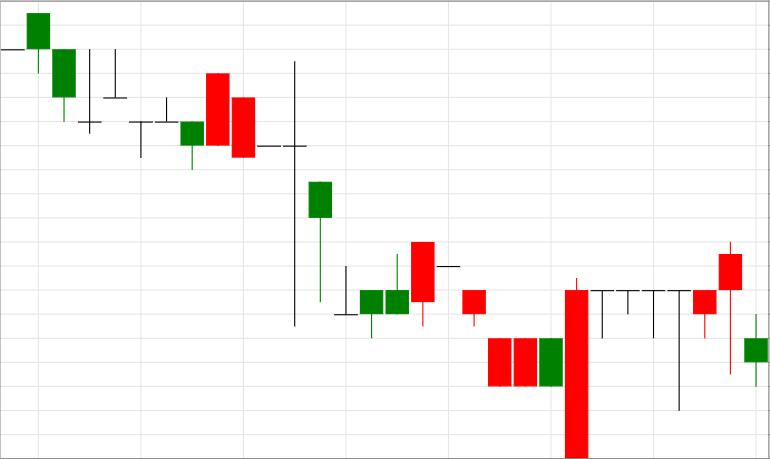bullish_engulfing_rise: (411, 243, 588, 458)
hammer_rise: (206, 61, 332, 326)
